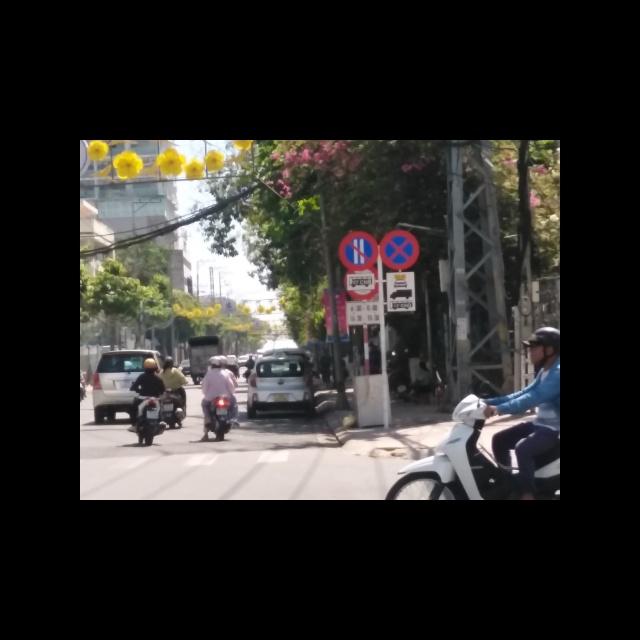Cấm dừng xe và đỗ xe: (380, 229, 420, 270)
Cấm đỗ xe ngày chẵn: (338, 230, 379, 270)
